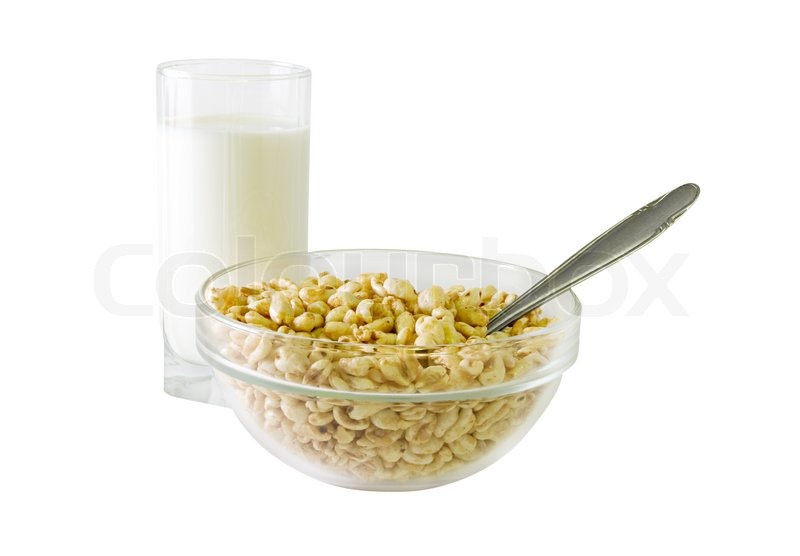glass of milk: (154, 59, 309, 403)
